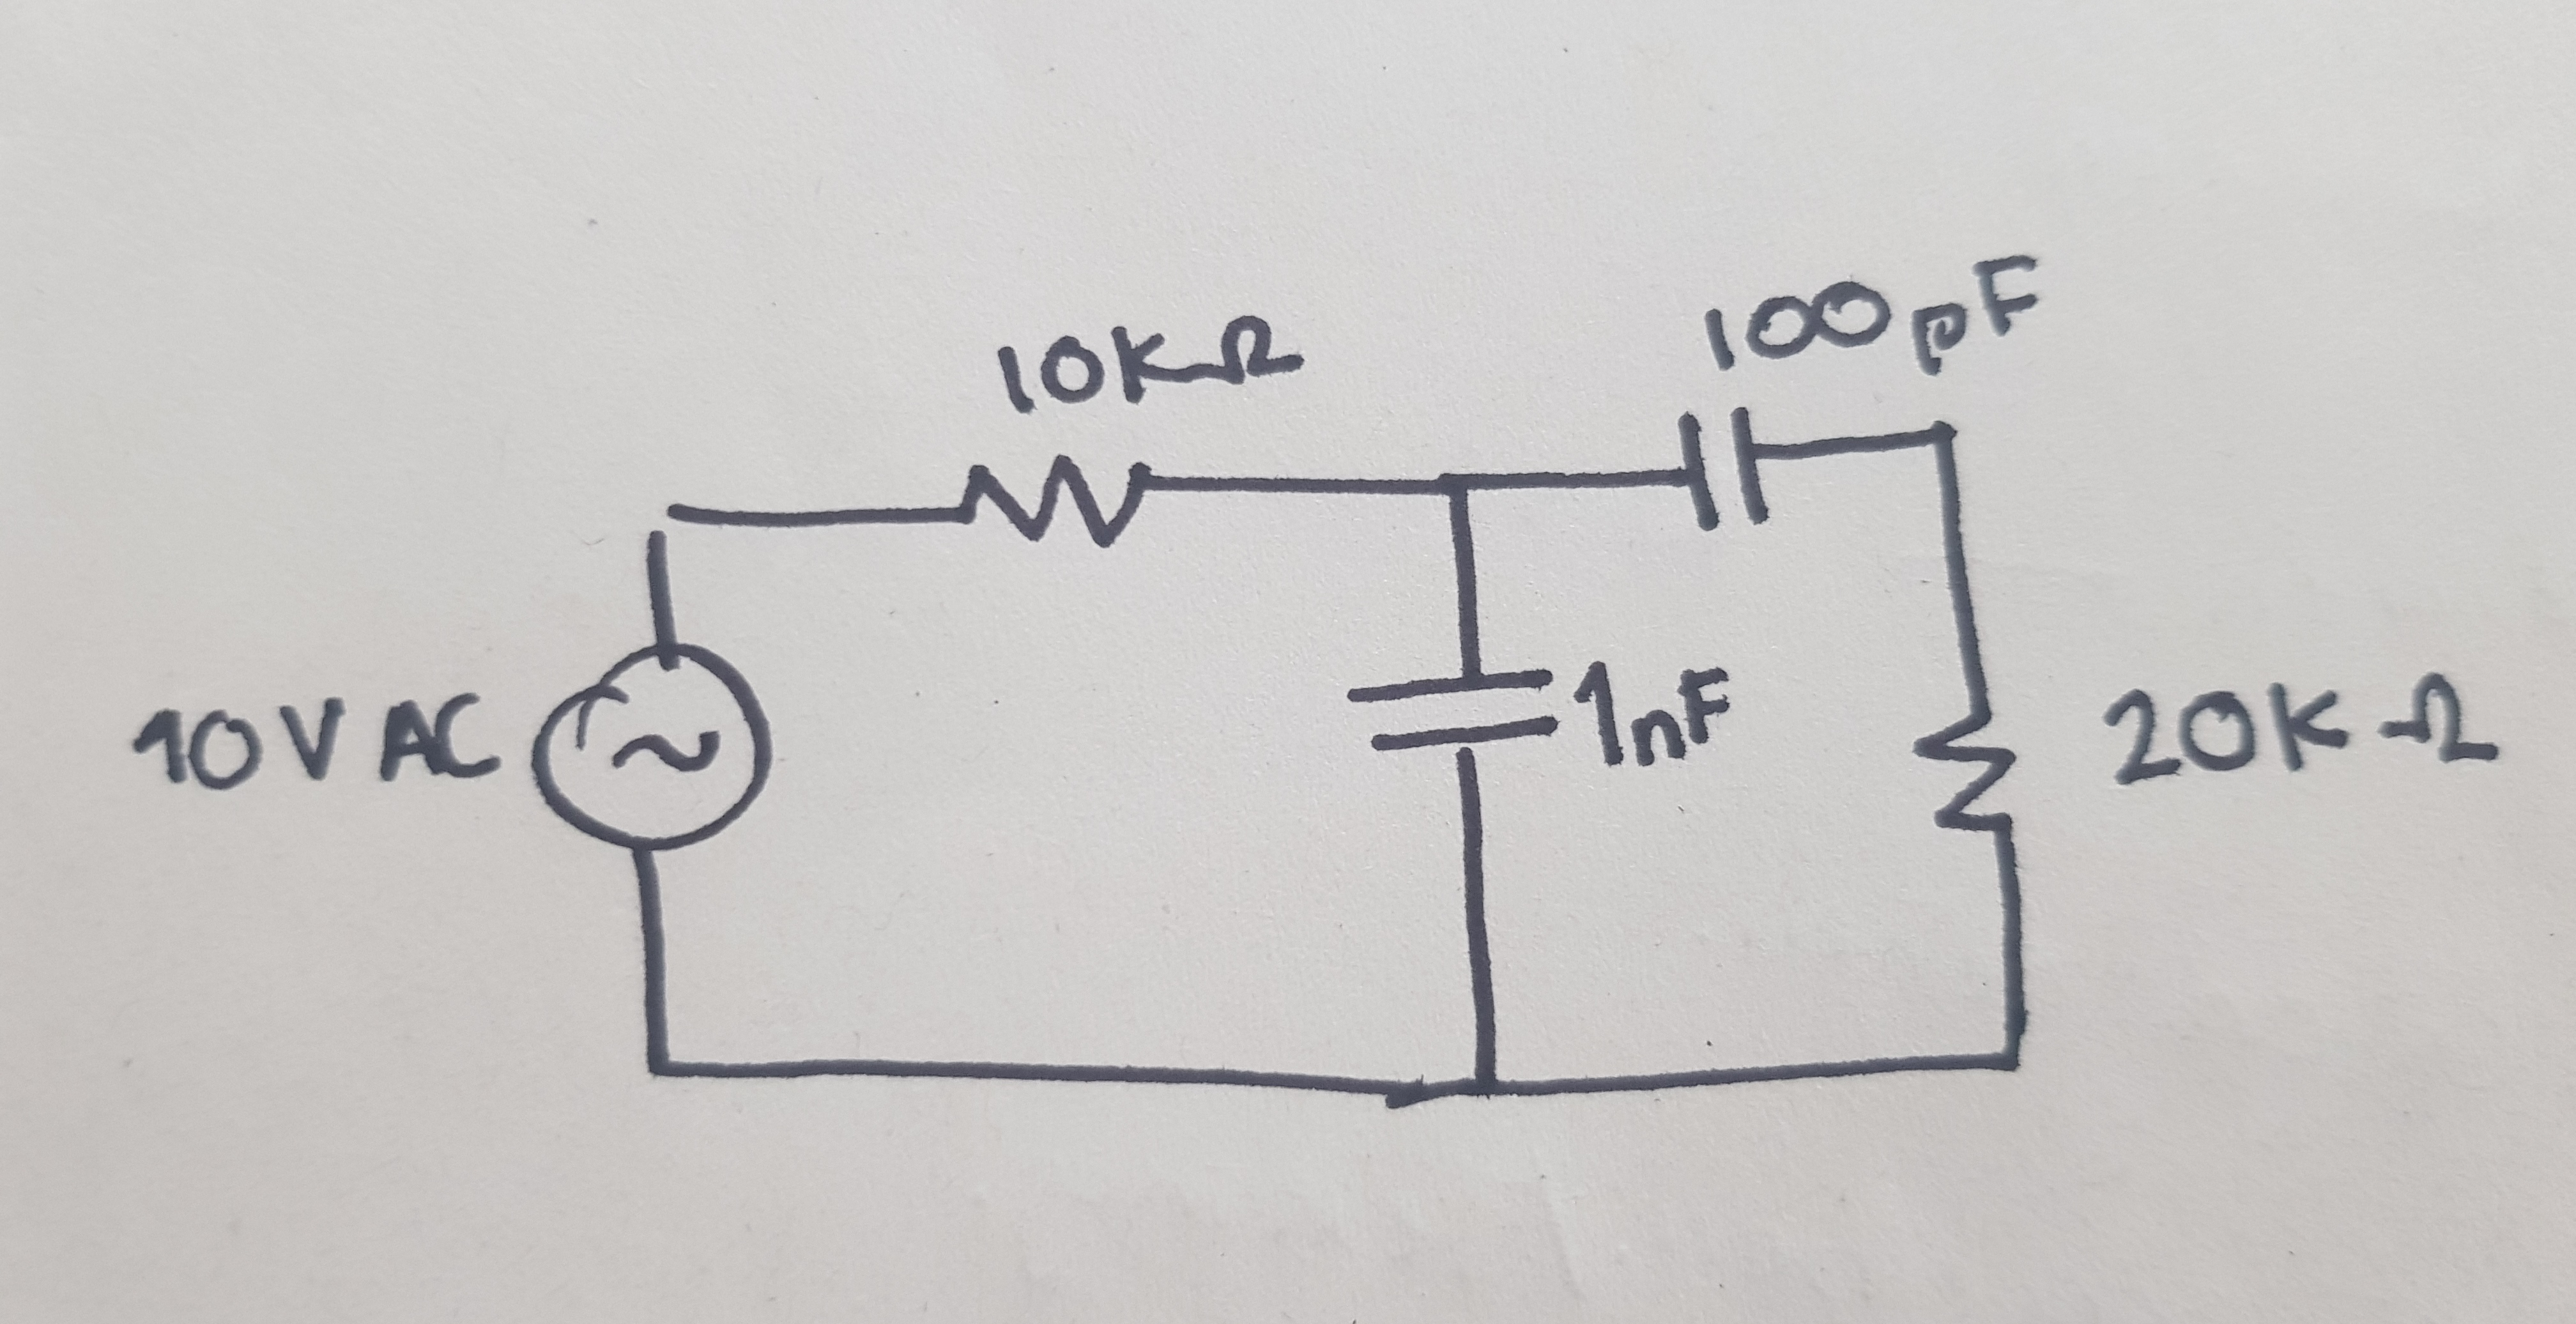capacitor.unpolarized: (1332, 648, 1570, 770), (1659, 397, 1784, 549)
junction: (614, 464, 707, 552), (1421, 451, 1499, 539), (1977, 1027, 2058, 1108), (614, 1040, 699, 1115), (1448, 1050, 1528, 1125), (1911, 405, 1990, 478)
resistor: (944, 446, 1163, 576), (1899, 684, 2044, 865)
text: (2088, 660, 2505, 789), (111, 682, 508, 807), (1698, 241, 2051, 380), (988, 307, 1312, 410), (1563, 650, 1732, 790)
voltage.dc: (511, 647, 777, 865)
